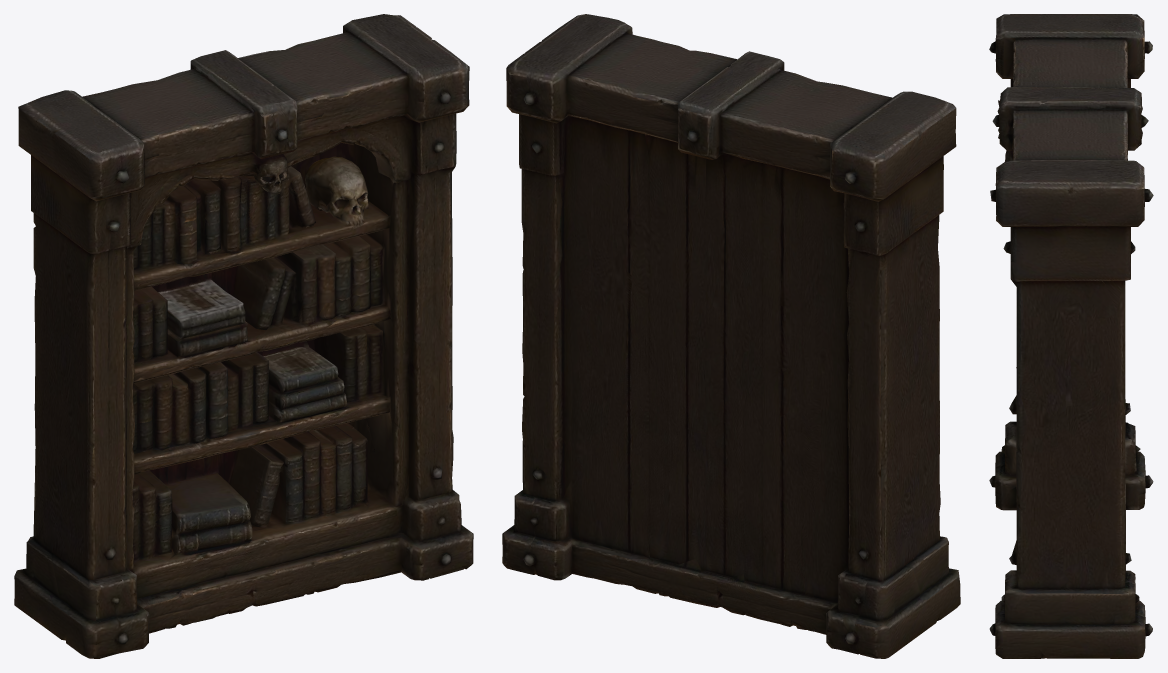
The model's file is Shelf.fbx.
3 views of the same model, side by side, from view 1: azimuth 30°, elevation 25°; view 2: azimuth 150°, elevation 25°; view 3: azimuth 270°, elevation 25° (orthographic). The views are drawn at different scales.
Parts seen in each view (by area): view 1: Bookshelf; view 2: Bookshelf; view 3: Bookshelf.
Part boxes in pixels (x1,y1,x2,y2): Bookshelf: (14, 14, 473, 658); Bookshelf: (502, 14, 960, 658); Bookshelf: (989, 14, 1153, 658).
Size of the model in its own units: 78.23 by 97.85 by 30.52.
Materials: 1 (1 with a texture image).
